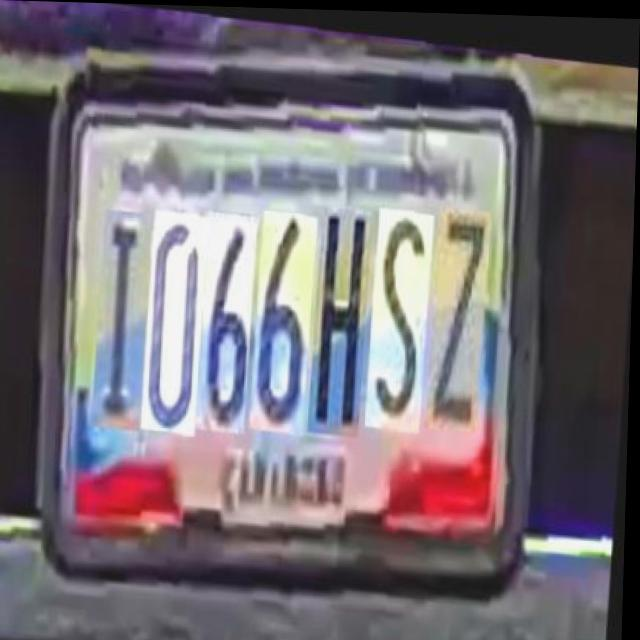0: (146, 205, 211, 428)
6: (255, 199, 319, 424), (200, 204, 261, 425)
h: (313, 193, 376, 424)
i: (95, 204, 156, 426)
s: (369, 193, 436, 418)
z: (430, 190, 494, 415)
